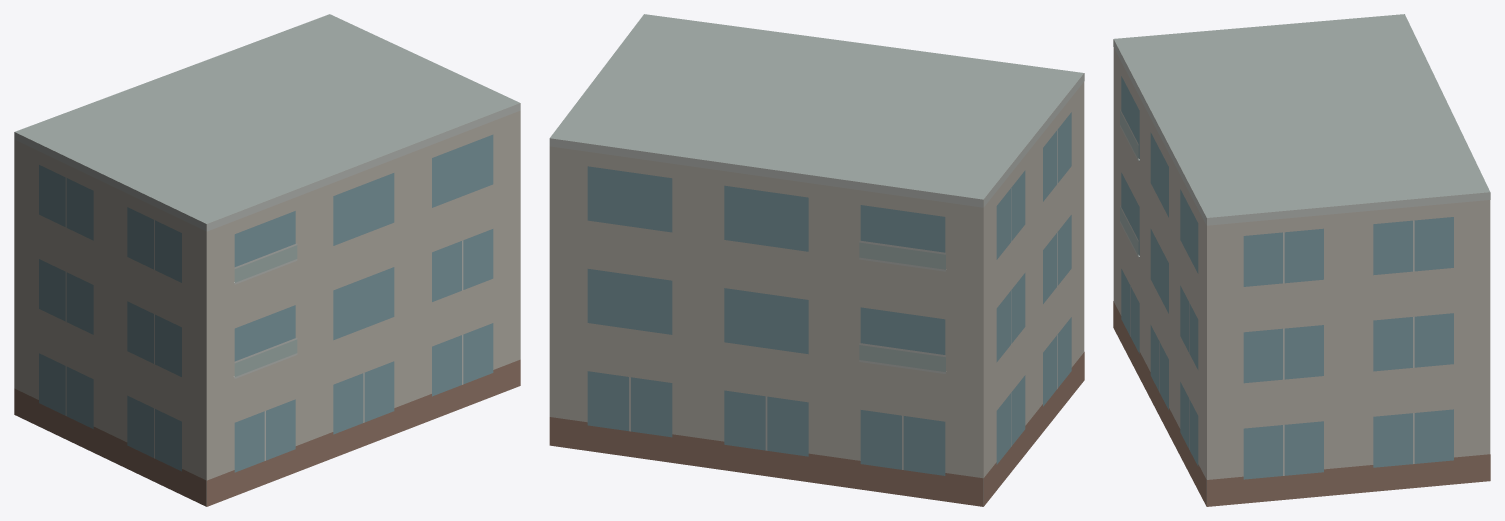
The model's file is survey-upis-32710130.glb.
The picture shows the model from 3 angles, left to right: view 1: azimuth 30°, elevation 25°; view 2: azimuth 150°, elevation 25°; view 3: azimuth 270°, elevation 25°; orthographic projection. The views are drawn at different scales.
Visible parts, largest first — view 1: survey-upis-32710130.tmp; view 2: survey-upis-32710130.tmp; view 3: survey-upis-32710130.tmp.
Boxes of the visible parts, bbox=[...] form: survey-upis-32710130.tmp: bbox=[14, 14, 520, 506]; survey-upis-32710130.tmp: bbox=[549, 14, 1084, 506]; survey-upis-32710130.tmp: bbox=[1113, 14, 1490, 506].
Bounding box in the file's own units: 13.87 × 9.15 × 10.83.
